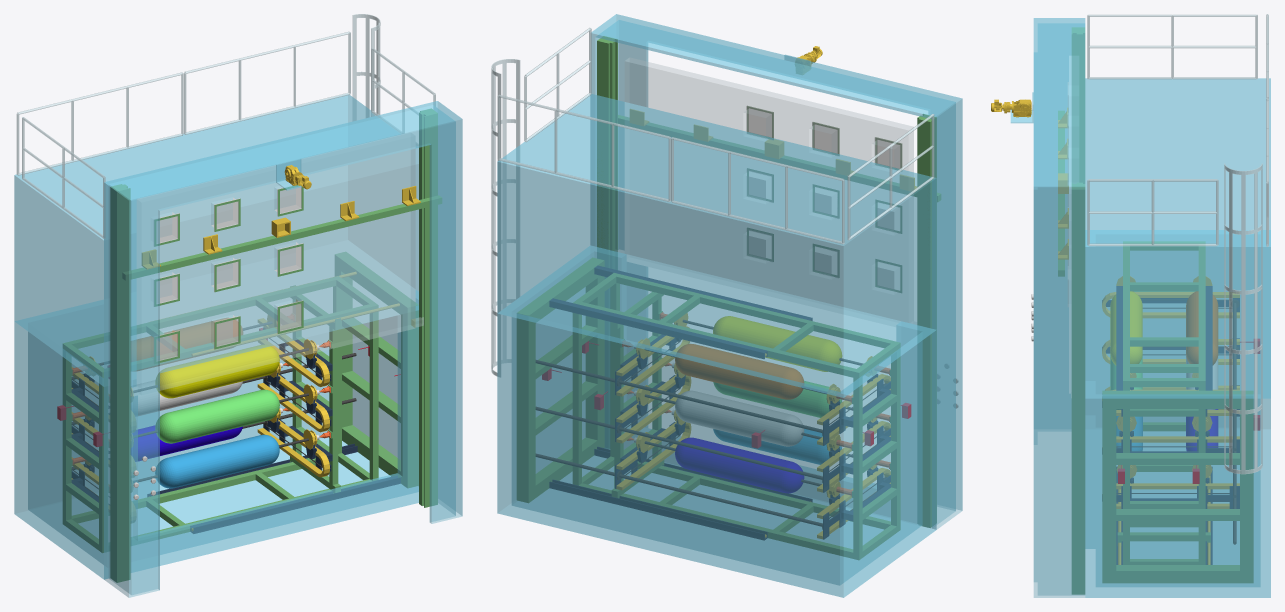
3 renders of one model, left to right at view 1: azimuth 30°, elevation 25°; view 2: azimuth 150°, elevation 25°; view 3: azimuth 270°, elevation 25°, orthographic. The views are drawn at different scales.
Parts seen in each view (by area): view 1: 炉体.001, 门框架, 炉体, 门体, 导轨, 小框架, 大框架, 窗, 下1瓶, 中1瓶, 上1瓶, 移动框架 (+15 smaller); view 2: 炉体.001, 炉体, 门框架, 小框架, 门体, 导轨, 大框架, 螺杆罩, 窗, 爬梯护栏, 下2瓶, 中2瓶 (+20 smaller); view 3: 炉体.001, 炉体, 门框架, 大框架, 小框架, 导轨, 爬梯护栏, 移动框架, 护栏4, 护栏1, 螺杆罩, 上1瓶 (+13 smaller).
Part boxes in pixels (x1,y1,x2,y2): 炉体.001: (14, 94, 418, 386); 门框架: (104, 101, 462, 597); 炉体: (14, 290, 418, 579); 门体: (160, 148, 423, 390); 导轨: (110, 108, 437, 582); 小框架: (63, 276, 378, 552); 大框架: (335, 252, 418, 487); 窗: (154, 185, 303, 363); 下1瓶: (155, 434, 279, 488); 中1瓶: (155, 389, 279, 443); 上1瓶: (155, 345, 279, 398); 移动框架: (290, 285, 340, 493); 炉体.001: (497, 94, 936, 397); 炉体: (497, 246, 936, 597); 门框架: (590, 14, 962, 529); 小框架: (573, 273, 900, 559); 门体: (625, 57, 913, 172); 导轨: (597, 36, 936, 527); 大框架: (517, 257, 604, 502); 螺杆罩: (549, 265, 812, 540); 窗: (746, 105, 902, 292); 爬梯护栏: (491, 59, 520, 377); 下2瓶: (675, 438, 803, 493); 中2瓶: (675, 391, 803, 446); 炉体.001: (1085, 78, 1270, 398); 炉体: (1085, 230, 1270, 597); 门框架: (1010, 18, 1085, 597); 大框架: (1102, 391, 1253, 582); 小框架: (1123, 241, 1205, 564); 导轨: (1072, 27, 1084, 594); 爬梯护栏: (1224, 163, 1262, 474); 移动框架: (1118, 364, 1210, 542); 护栏4: (1087, 14, 1257, 79); 护栏1: (1087, 179, 1218, 246); 螺杆罩: (1116, 286, 1212, 564); 上1瓶: (1110, 291, 1142, 364).
Bounding box in the file's own units: 6.09 × 6.98 × 4.07.
